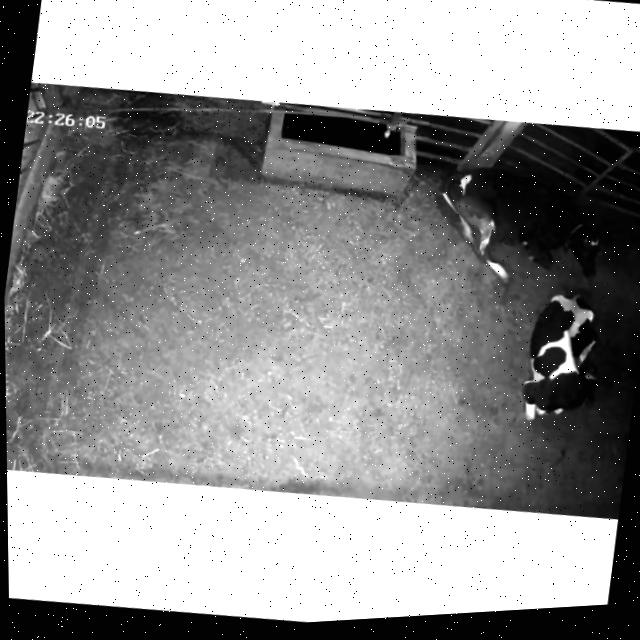lay: (425, 148, 640, 312), (510, 274, 619, 442)
